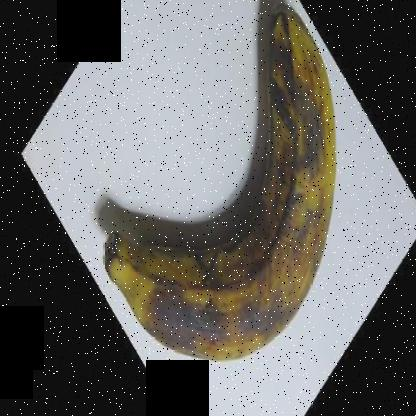rotten: (100, 1, 352, 368)
